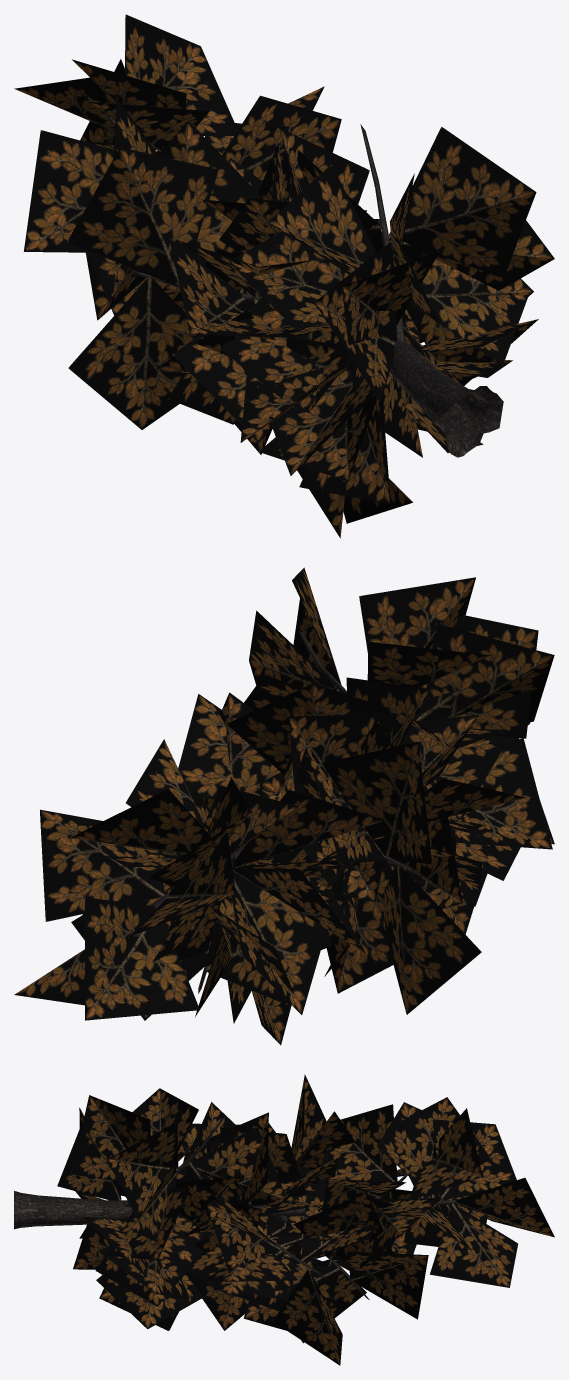
File: tree_6.obj
3 views of the same model, one above another, from view 1: azimuth 30°, elevation 25°; view 2: azimuth 150°, elevation 25°; view 3: azimuth 270°, elevation 25° (orthographic). The views are drawn at different scales.
Visible parts, largest first — view 1: tree_6_leaves, tree_6; view 2: tree_6_leaves, tree_6; view 3: tree_6_leaves, tree_6.
Part boxes in pixels (x1,y1,x2,y2): tree_6_leaves: (14,14,554,538); tree_6: (106,114,503,457); tree_6_leaves: (14,567,554,1045); tree_6: (151,631,530,993); tree_6_leaves: (57,1074,554,1365); tree_6: (14,1117,456,1299).
Bounding box in the file's own units: 3.25 × 3.07 × 6.06.
